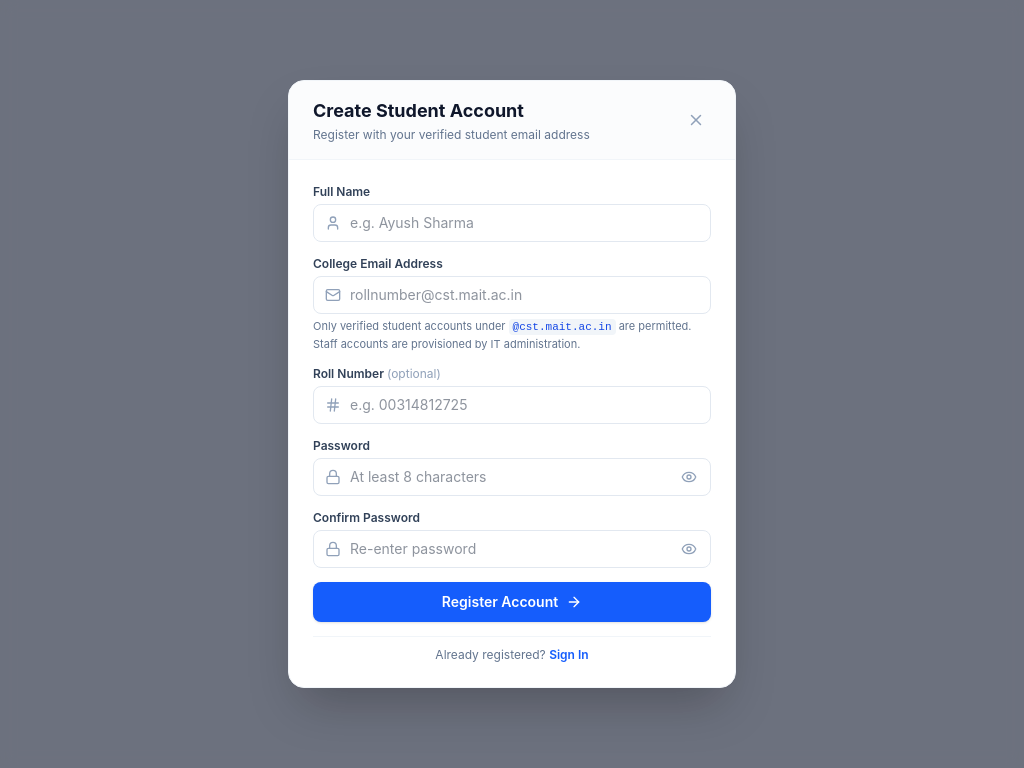
Test: AuthModal Component › validates password match on sign-up before calling AuthContext
The image size is (1024, 768).
Expected: the heading "Create Student Account" is shown, [313, 100, 524, 121]
Type "Ayush Sharma" into the field with placeholder "e.g. Ayush Sharma". click: (512, 223)
box: [313, 204, 711, 242]
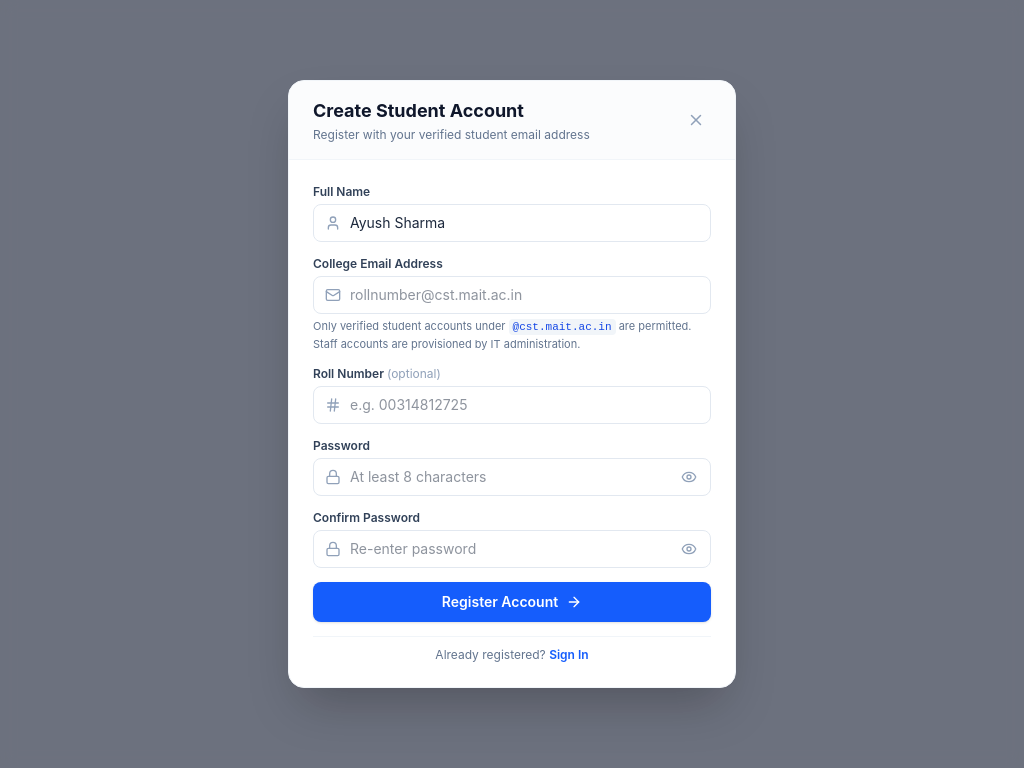
Type "ayush@cst.mait.ac.in" into the field with placeholder "rollnumber@cst.mait.ac.in". click: (512, 295)
box: [313, 276, 711, 314]
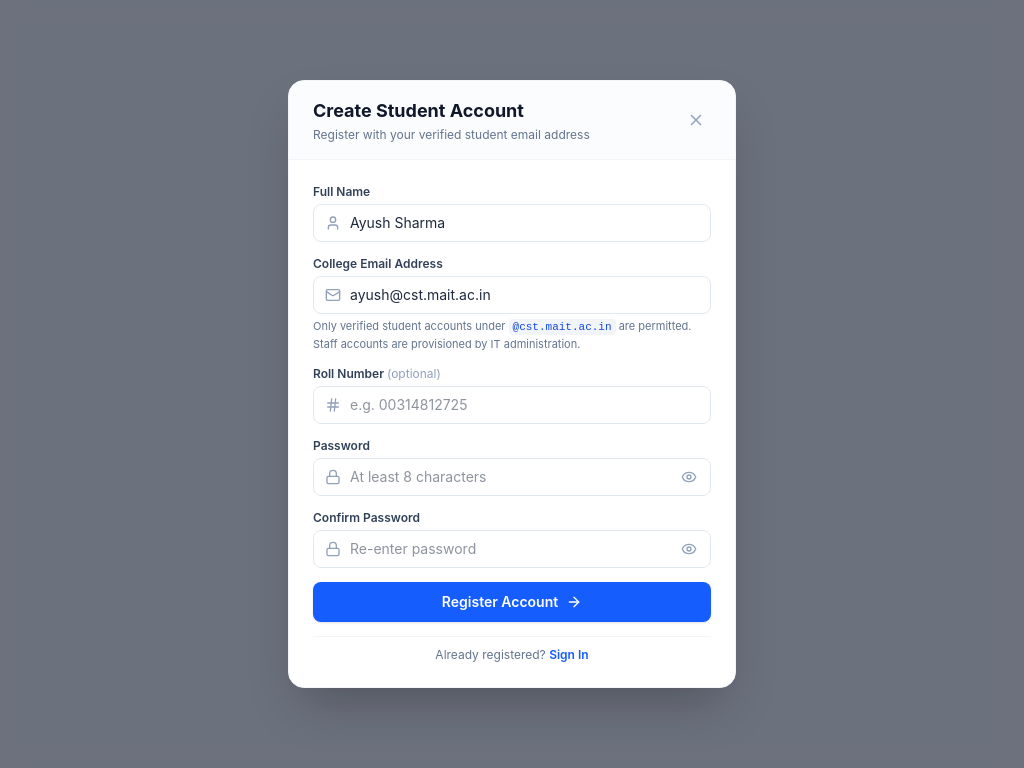
Type "Password123!" into the password field with placeholder "At least 8 characters". click: (512, 477)
box: [313, 458, 711, 496]
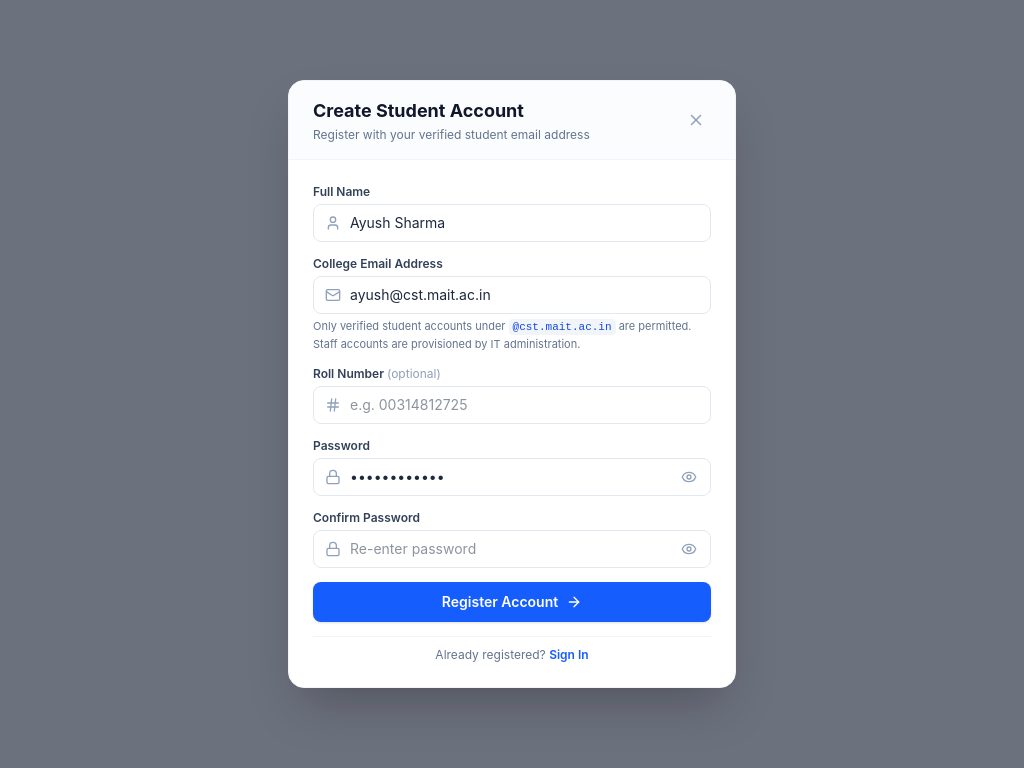
Type "DifferentPassword123!" into the password field with placeholder "Re-enter password". click: (512, 549)
box: [313, 530, 711, 568]
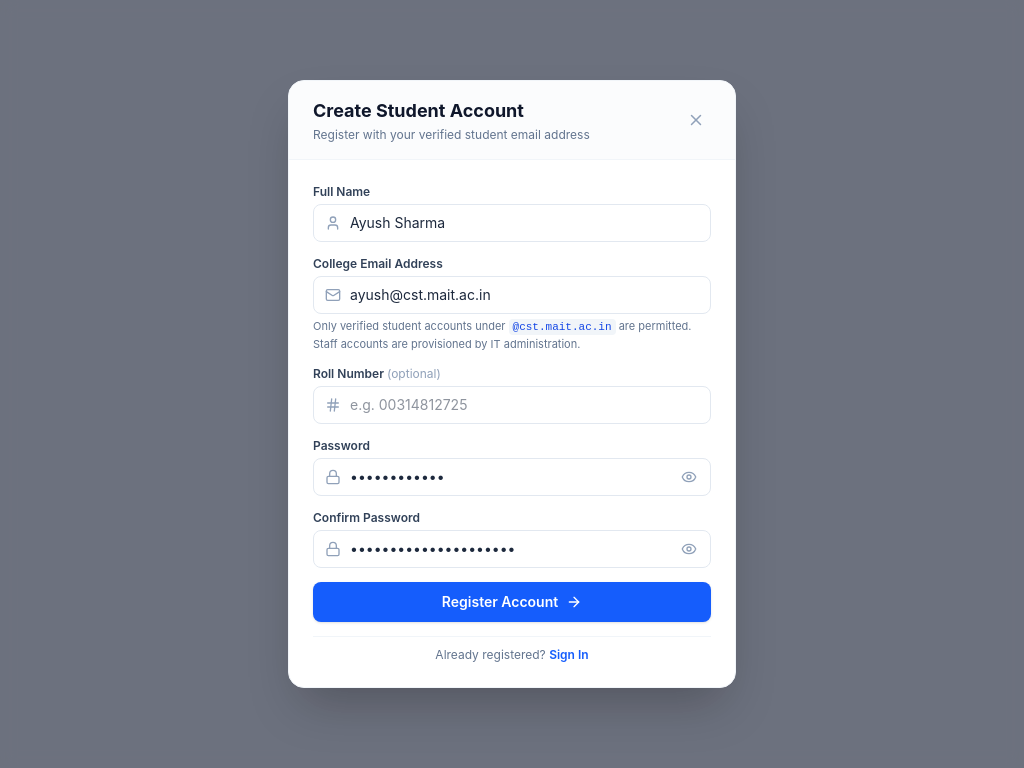
Click the button "Register Account". click: (512, 602)
box: [313, 582, 711, 622]
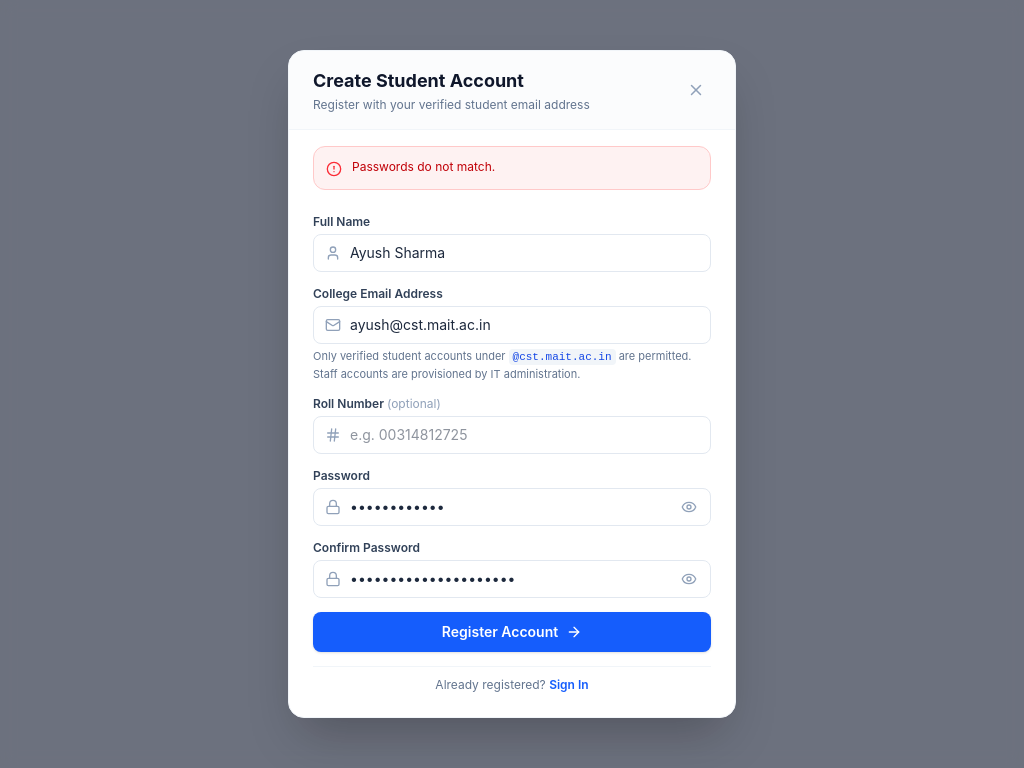
Expected: the text "Passwords do not match." is shown, [352, 159, 495, 174]
